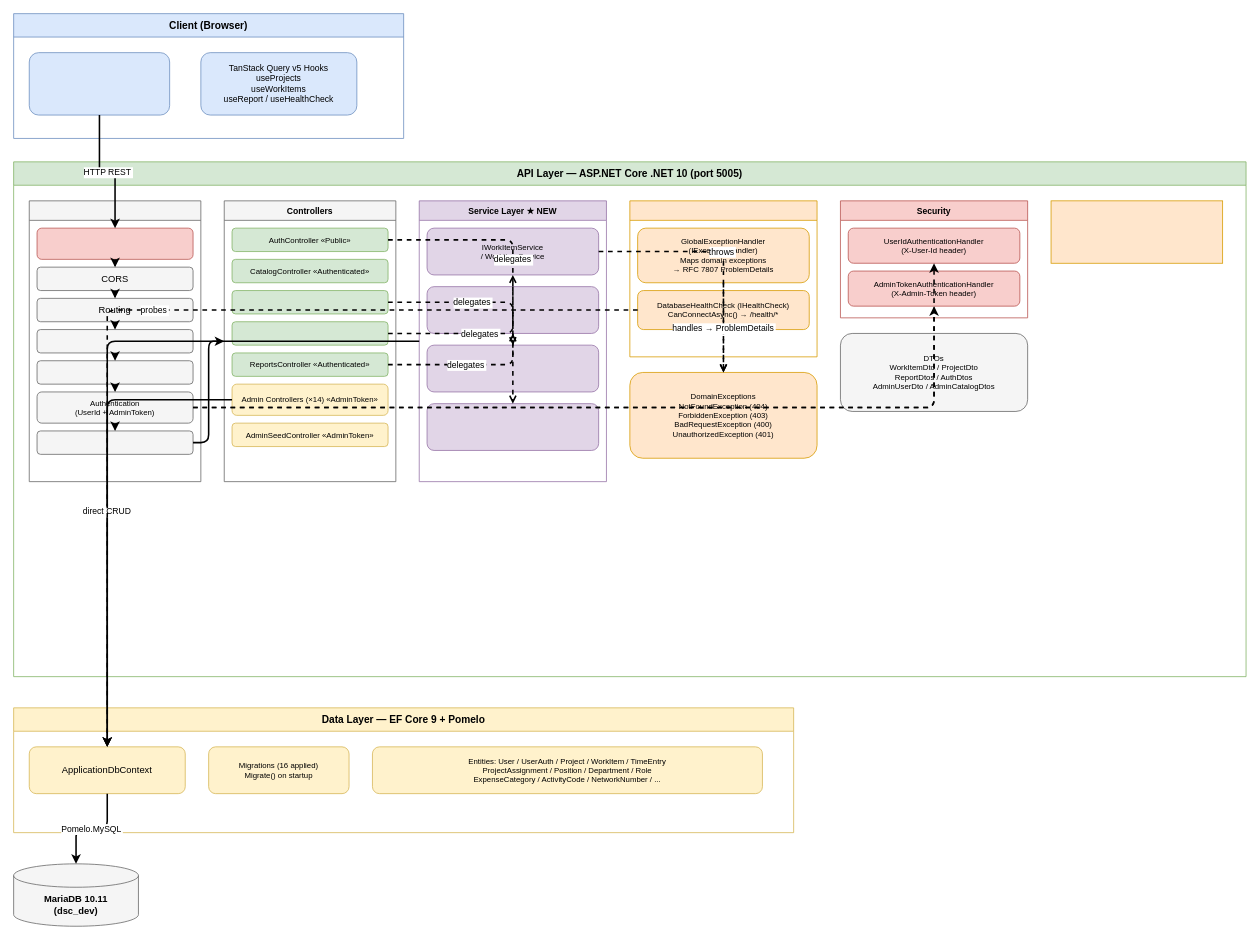
Some shapes in this 1260 by 940 pixel diagram are drawn without their labels. Here are the shapes that lost their labels. From the top down, the box of each, then its label:
(28, 52, 170, 115): React 18 SPA (Vite 5 — port 5173)
(36, 227, 193, 259): GlobalExceptionHandler (FIRST — IExceptionHandler)
(1050, 200, 1223, 263): Health Endpoints GET /health/live GET /health/ready GET /health/details (JSON)
(629, 200, 817, 357): Infrastructure ★ NEW
(231, 290, 388, 314): ProjectsController «Authenticated»
(426, 286, 599, 333): IReportService / ReportService
(28, 200, 201, 482): Middleware Pipeline
(36, 329, 193, 353): Rate Limiter (60 req/min admin)
(231, 321, 388, 345): ItemsController «Authenticated»
(36, 360, 193, 384): Security Headers (CSP / X-Frame)
(426, 344, 599, 392): IProjectService / ProjectService
(36, 430, 193, 454): Authorization
(426, 403, 599, 450): IAuthService / AuthService
